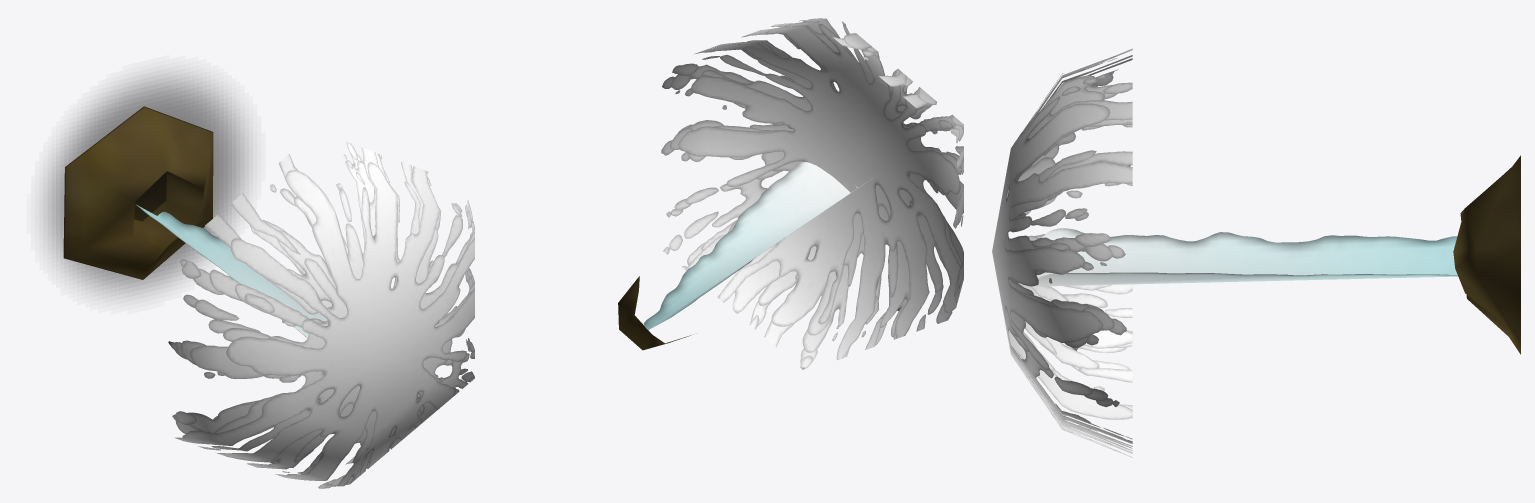
The model's file is geyser.glb.
3 renders of one model, left to right at view 1: azimuth 30°, elevation 25°; view 2: azimuth 150°, elevation 25°; view 3: azimuth 270°, elevation 25°, orthographic. The views are drawn at different scales.
Parts seen in each view (by area): view 1: Splash_1, hole, shadow, Splash_2, Splash_3, spout, Splash_4; view 2: Splash_1, Splash_2, spout, Splash_3, Splash_4, hole; view 3: Splash_1, spout, hole, Splash_2, Splash_3, Splash_4.
Part boxes in pixels (x1,y1,x2,y2): Splash_1: [168, 142, 474, 488]; hole: [63, 106, 213, 279]; shadow: [43, 72, 248, 296]; Splash_2: [172, 147, 474, 482]; Splash_3: [174, 152, 474, 486]; spout: [136, 204, 327, 338]; Splash_4: [174, 153, 471, 488]; Splash_1: [666, 19, 963, 369]; Splash_2: [669, 20, 963, 357]; spout: [643, 162, 872, 329]; Splash_3: [661, 18, 963, 352]; Splash_4: [664, 18, 963, 362]; hole: [618, 276, 691, 350]; Splash_1: [992, 55, 1132, 457]; spout: [1032, 228, 1458, 286]; hole: [1453, 155, 1520, 354]; Splash_2: [1004, 48, 1132, 453]; Splash_3: [1008, 62, 1132, 448]; Splash_4: [1011, 58, 1132, 453].
Bounding box in the file's own units: 4.49 × 5.19 × 6.02.
4 materials, 4 textured.
